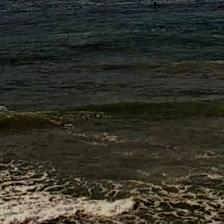surfer: (152, 1, 159, 8)
